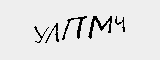Л: (43, 19, 61, 46)
М: (86, 13, 114, 40)
П: (60, 10, 86, 39)
У: (32, 22, 49, 47)
Ч: (113, 14, 127, 34)
